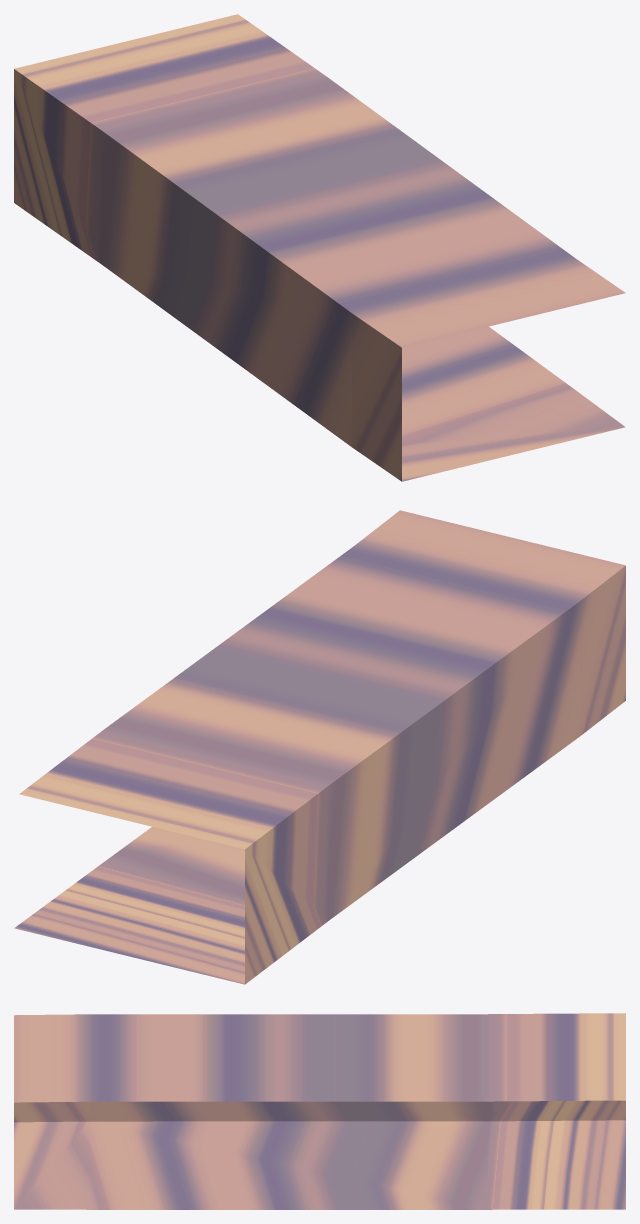
The model's file is Terrain2_side_colider 1.fbx.
3 renders of one model, top to bottom at view 1: azimuth 30°, elevation 25°; view 2: azimuth 150°, elevation 25°; view 3: azimuth 270°, elevation 25°, orthographic. The views are drawn at different scales.
Visible parts, largest first — view 1: Terrain2_Side_Colider; view 2: Terrain2_Side_Colider; view 3: Terrain2_Side_Colider.
Boxes of the visible parts, bbox=[...] form: Terrain2_Side_Colider: bbox=[14, 14, 625, 481]; Terrain2_Side_Colider: bbox=[14, 510, 625, 984]; Terrain2_Side_Colider: bbox=[14, 1013, 625, 1209].
Size of the model in its own units: 545 by 305 by 1576.
Materials: 1 (1 with a texture image).
